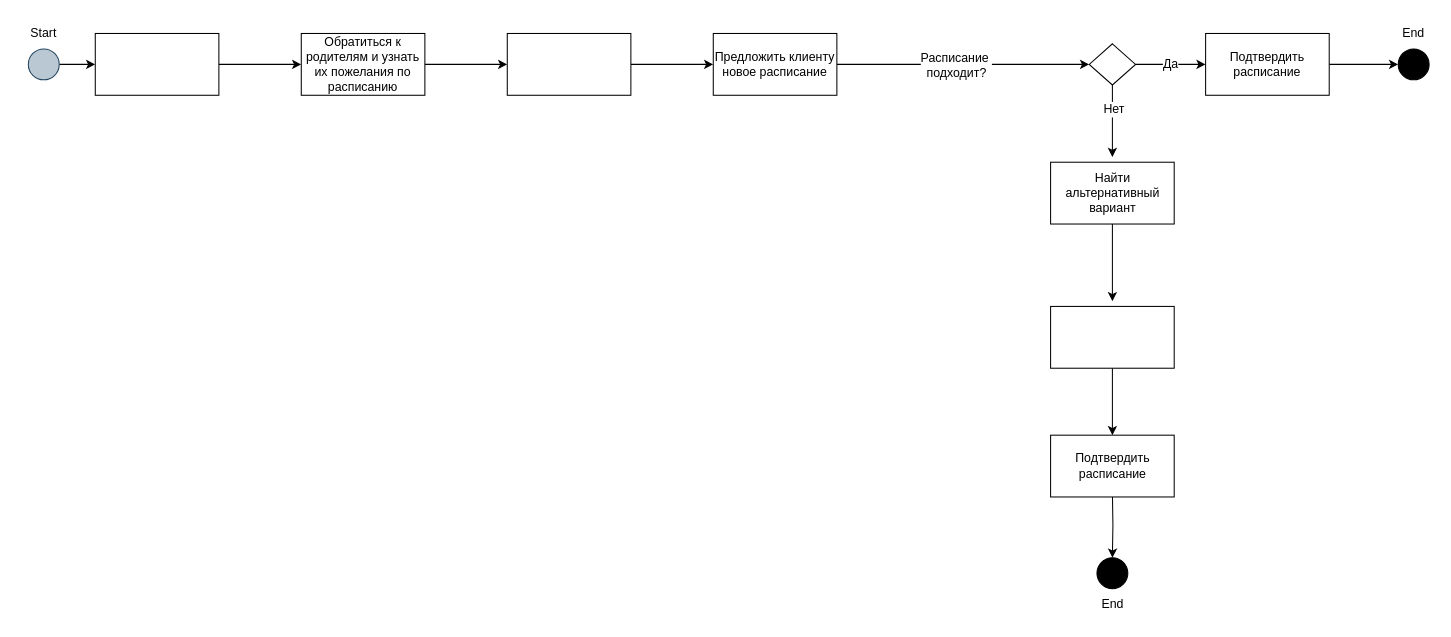
The diagram is 1451 pixels wide and 637 high, and some of its shapes have lost their labels. The centre of each missing label's shape, as x and y in pixels:
"Выявить параллельные группы" belongs at (156,63).
"Изменить расписание" belongs at (1112,336).
"Сформировать новое расписание" belongs at (568,63).
